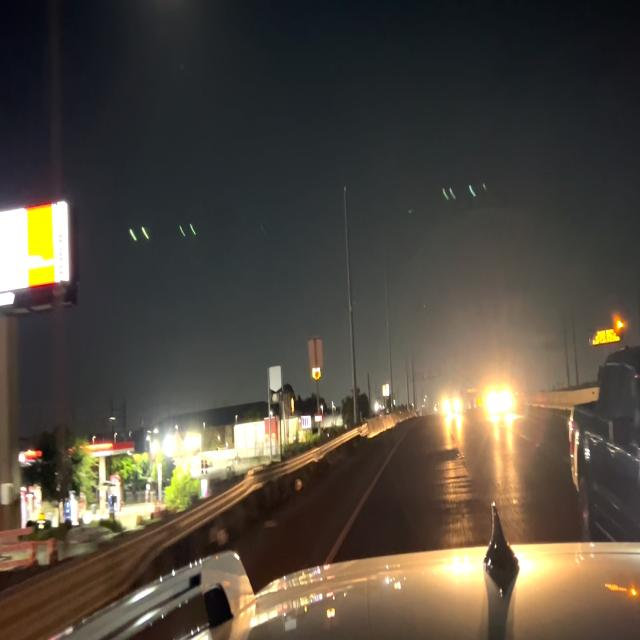back-of-sign: (309, 335, 323, 368)
